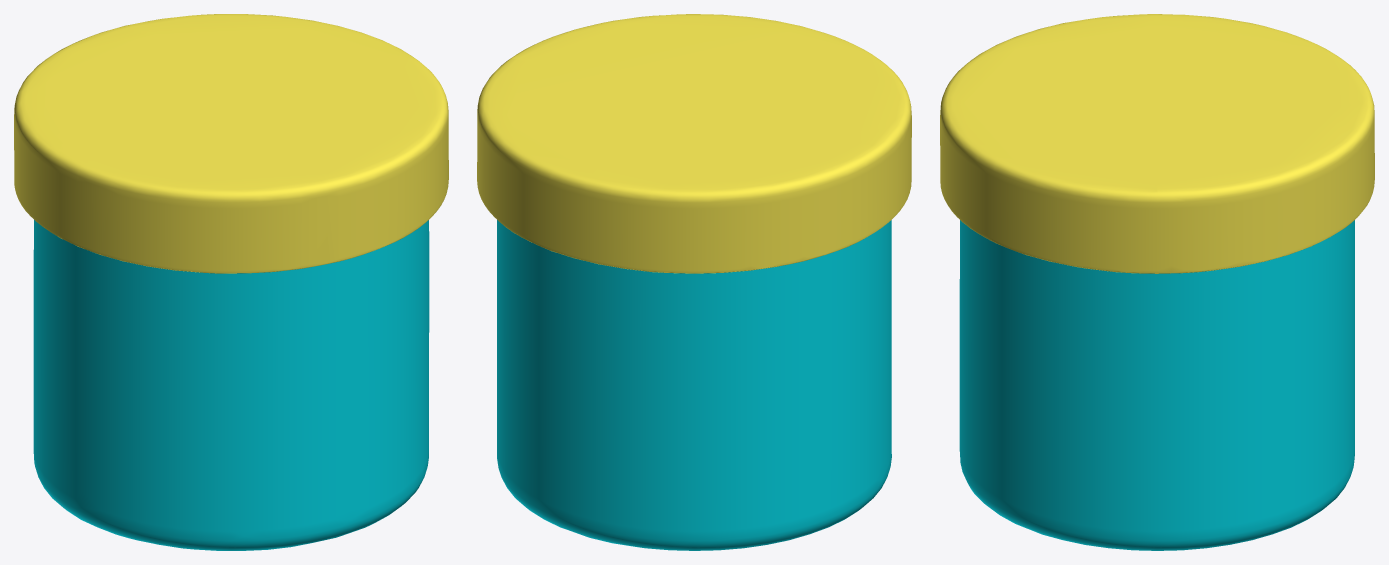
3 renders of one model, left to right at view 1: azimuth 30°, elevation 25°; view 2: azimuth 150°, elevation 25°; view 3: azimuth 270°, elevation 25°, orthographic.
Parts seen in each view (by area): view 1: ASY_ART_00614278_S01_NV01; view 2: ASY_ART_00614278_S01_NV01; view 3: ASY_ART_00614278_S01_NV01.
Boxes of the visible parts, left/top/right/bottom form: ASY_ART_00614278_S01_NV01: left=14, top=14, right=448, bottom=550; ASY_ART_00614278_S01_NV01: left=477, top=14, right=911, bottom=550; ASY_ART_00614278_S01_NV01: left=940, top=14, right=1374, bottom=550.
Size of the model in its own units: 0.0989 by 0.0933 by 0.0989.
Materials: 2 (2 with a texture image).
